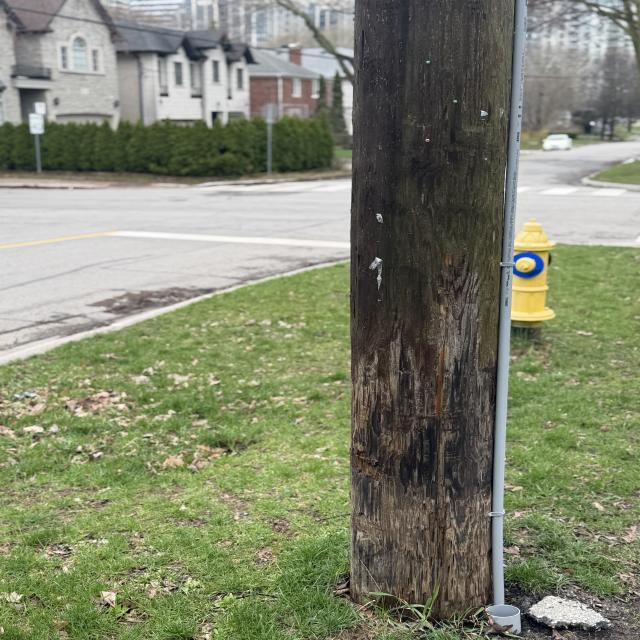Electrical Pole: (338, 1, 534, 639)
